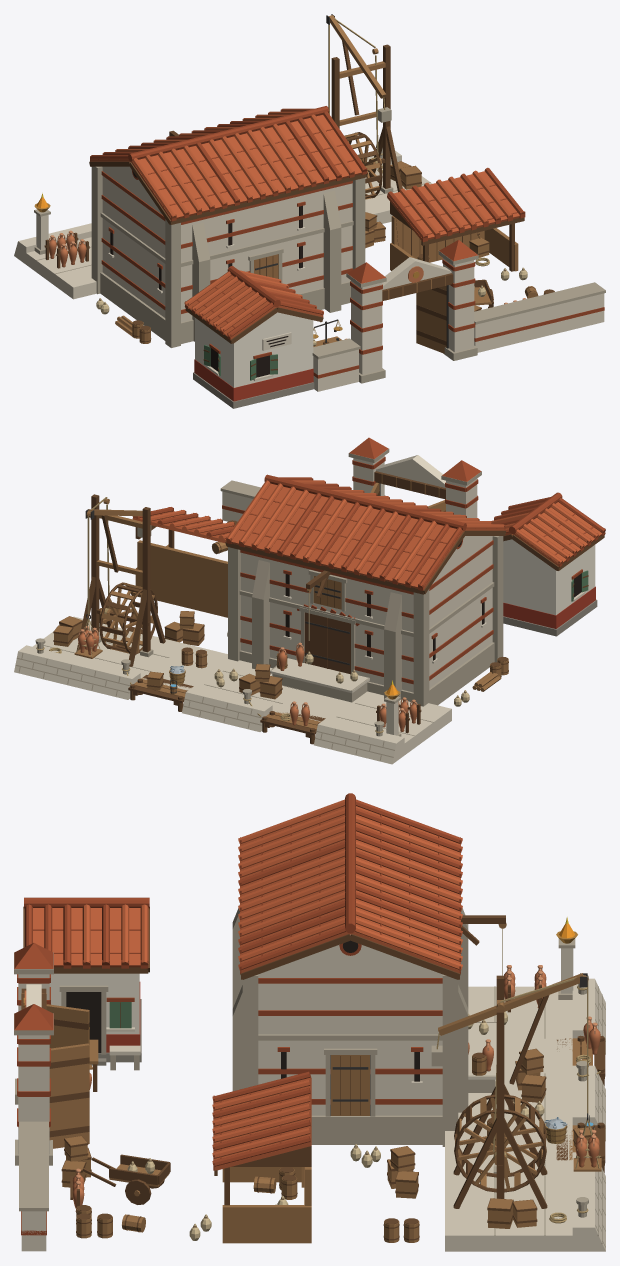
The model's file is Hafen.fbx.
3 views of the same model, one above another, from view 1: azimuth 30°, elevation 25°; view 2: azimuth 150°, elevation 25°; view 3: azimuth 270°, elevation 25° (orthographic). The views are drawn at different scales.
Visible parts, largest first — view 1: Hafen_0; view 2: Hafen_0; view 3: Hafen_0.
Part boxes in pixels (left/top/right/bottom): Hafen_0: left=14, top=14, right=605, bottom=408; Hafen_0: left=14, top=437, right=605, bottom=764; Hafen_0: left=14, top=793, right=605, bottom=1251.
Size of the model in its own units: 5.3 by 2.33 by 5.33.
